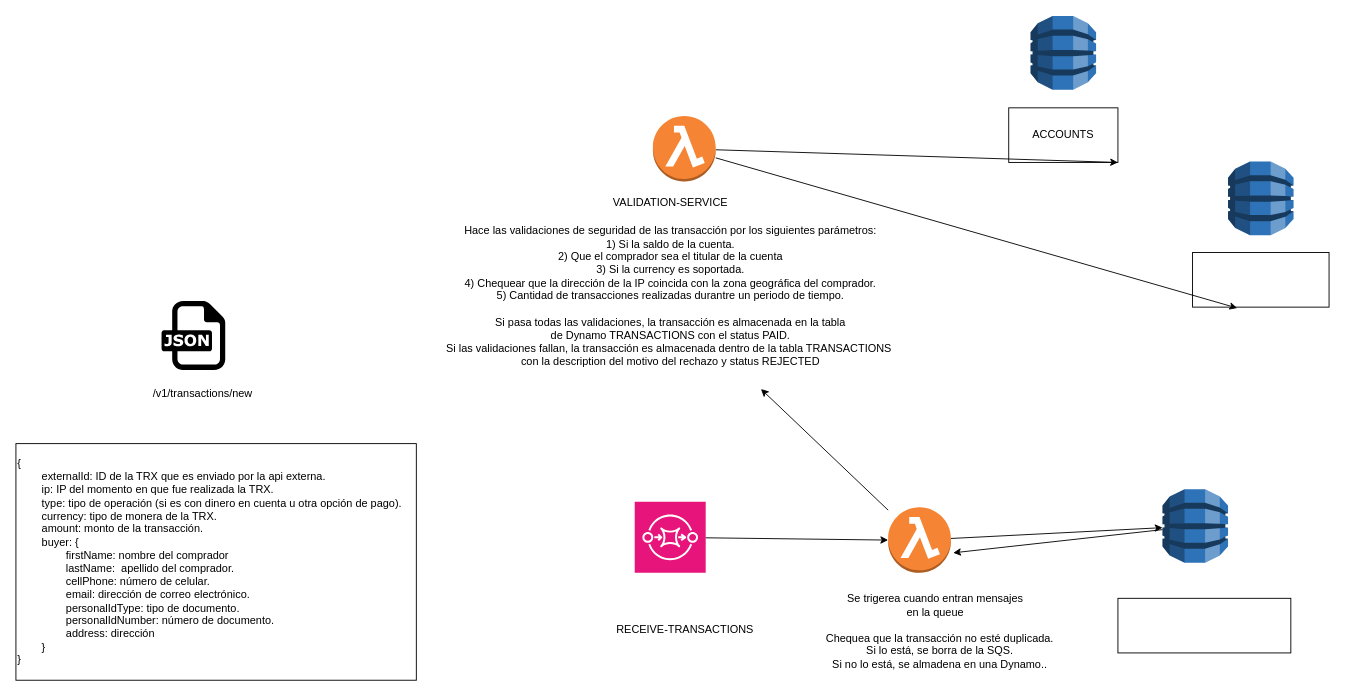
Image size: 1345x696. Some labels were removed from this diagram. Each missing label, with the centre of its shape:
"QUEUED_TRANSACTIONS" belongs at pixel 1204 625.
"TRANSACTIONS" belongs at pixel 1260 279.
